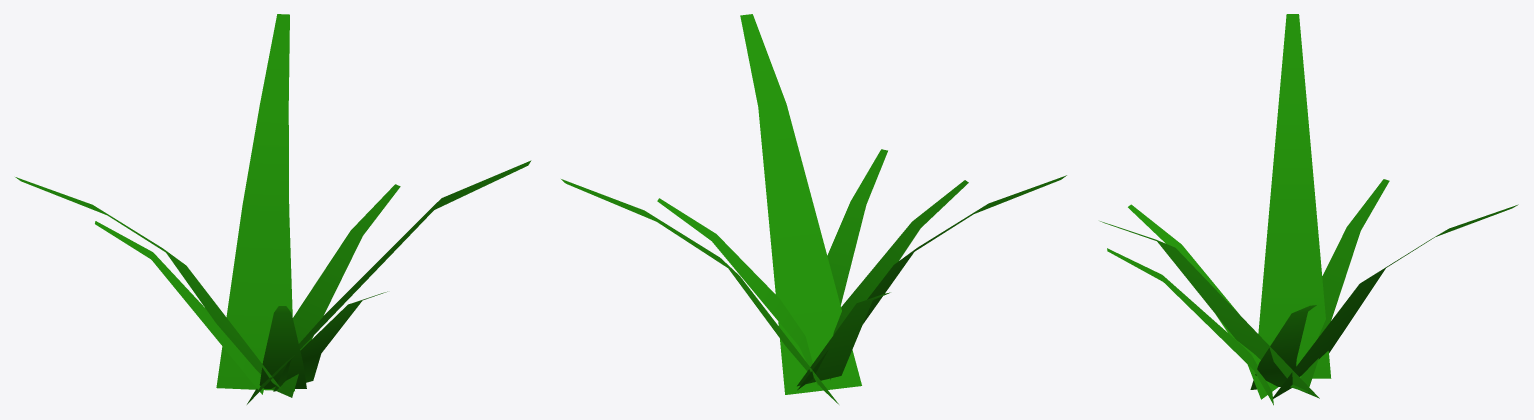
File: lvl2-agac-3.fbx
3 renders of one model, left to right at view 1: azimuth 30°, elevation 25°; view 2: azimuth 150°, elevation 25°; view 3: azimuth 270°, elevation 25°, orthographic. The views are drawn at different scales.
Parts seen in each view (by area): view 1: lvl2.agac-3; view 2: lvl2.agac-3; view 3: lvl2.agac-3.
Part boxes in pixels (bbox=[...]): lvl2.agac-3: bbox=[15, 14, 531, 404]; lvl2.agac-3: bbox=[561, 14, 1066, 404]; lvl2.agac-3: bbox=[1100, 14, 1518, 405].
Bounding box in the file's own units: 241 × 148 × 218.
